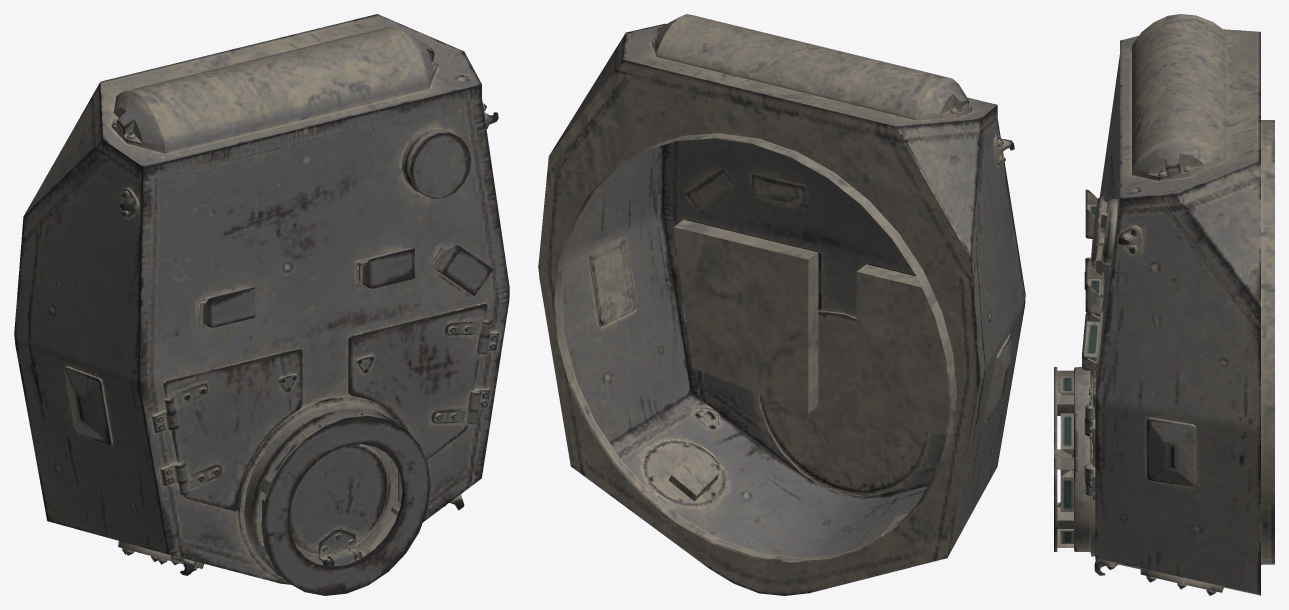
File: Turret_01.glb
3 views of the same model, side by side, from view 1: azimuth 30°, elevation 25°; view 2: azimuth 150°, elevation 25°; view 3: azimuth 270°, elevation 25° (orthographic). The views are drawn at different scales.
Parts seen in each view (by area): view 1: set_0_group_0; view 2: set_0_group_0; view 3: set_0_group_0.
Part boxes in pixels (<box>): set_0_group_0: <box>14,14,509,595</box>; set_0_group_0: <box>538,14,1025,595</box>; set_0_group_0: <box>1054,14,1274,595</box>.
Size of the model in its own units: 1.93 by 2.16 by 0.8556.
1 material, 1 textured.
